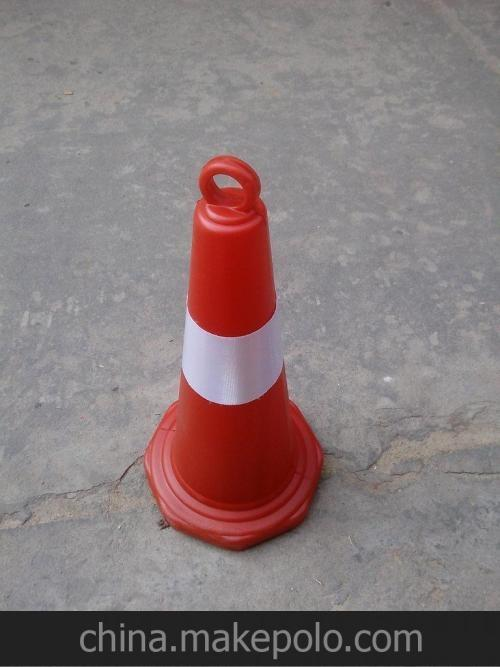cone_barrel: (134, 153, 323, 544)
